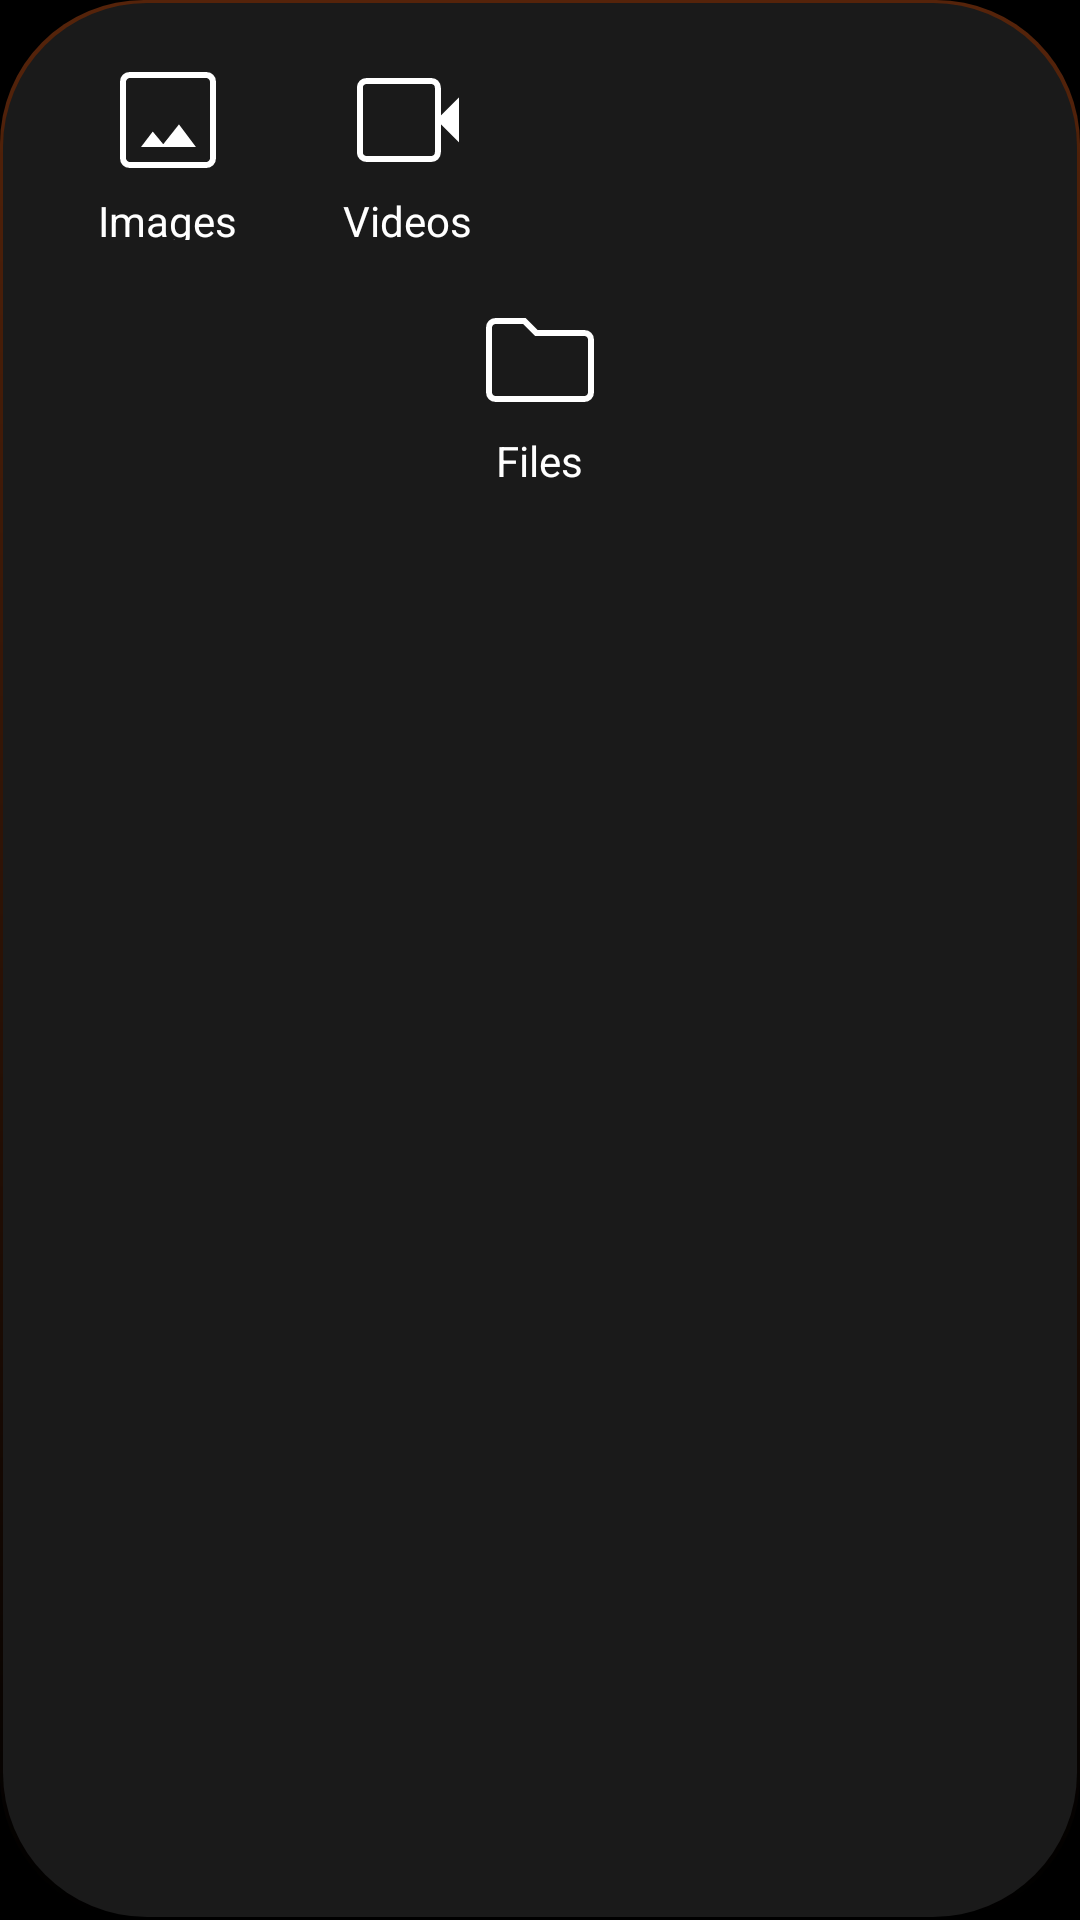

Icons on this 1080 × 1920 Android screen, each with the point to tap as point (x, y):
folder: point (540, 360)
